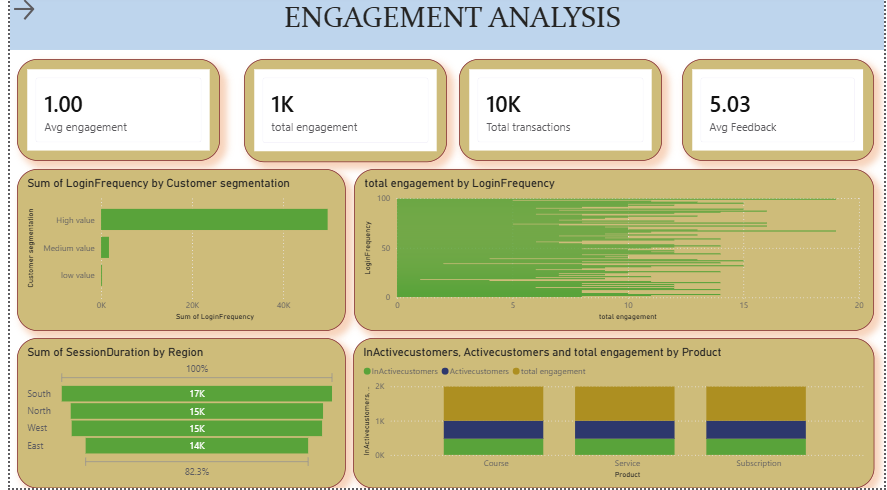

This screenshot's page, from the dashboard's own definition file:
{"tool":"powerbi","page":{"name":"   ENGAGEMENT ANALYSIS  ","canvas":[1280,720],"ordinal":2},"visuals":[{"type":"textbox","box":[0,0,1280.5,79],"z":0},{"type":"cardVisual","fields":{"Data":["Customer_Master 1.Avg engagement"]},"box":[10.2,92.2,297.1,149.3],"z":1000},{"type":"cardVisual","fields":{"Data":["Customer_Master 1.total engagement"]},"box":[342.4,92.2,297.1,150.7],"z":2000},{"type":"cardVisual","fields":{"Data":["Customer_Master 1.Total transactions"]},"box":[657.1,92.2,297.1,149.3],"z":3000},{"type":"cardVisual","fields":{"Data":["Customer_Master 1.Avg Feedback"]},"box":[983.4,92.2,281,149.3],"z":4000},{"type":"barChart","fields":{"Category":["Customer_Master 1.Customer segmentation"],"Y":["Sum(Engagement 1.LoginFrequency)"]},"box":[10.2,253.2,481.5,237.1],"z":5000},{"type":"funnel","fields":{"Category":["Customer_Master 1.Region"],"Y":["Sum(Engagement 1.SessionDuration)"]},"box":[10,500,481,220],"z":6000},{"type":"barChart","fields":{"Y":["Customer_Master 1.total engagement"],"Category":["Engagement 1.LoginFrequency"]},"box":[503.9,253.6,760.9,236.9],"z":7000},{"type":"columnChart","fields":{"Category":["Transactions 1.Product"],"Y":["Customer_Master 1.InActivecustomers","Customer_Master 1.Activecustomers","Customer_Master 1.total engagement"]},"box":[502.3,500.6,762.6,220.1],"z":8000},{"type":"actionButton","box":[0,0,100,40],"z":8001}]}

Visuals, with their boxes in screenshot pixels (x1, y1, x2, y2), scaled from the page's 1280x720 canvas onto the 887x490 screenshot:
textbox: 0/0/886/54
cardVisual - Customer_Master 1.Avg engagement: 7/63/213/164
cardVisual - Customer_Master 1.total engagement: 237/63/443/165
cardVisual - Customer_Master 1.Total transactions: 455/63/661/164
cardVisual - Customer_Master 1.Avg Feedback: 681/63/876/164
barChart - Customer_Master 1.Customer segmentation x Sum(Engagement 1.LoginFrequency): 7/172/341/334
funnel - Customer_Master 1.Region x Sum(Engagement 1.SessionDuration): 7/340/340/489
barChart - Customer_Master 1.total engagement x Engagement 1.LoginFrequency: 349/173/876/334
columnChart - Transactions 1.Product x Customer_Master 1.InActivecustomers: 348/341/877/489
actionButton: 0/0/69/27
